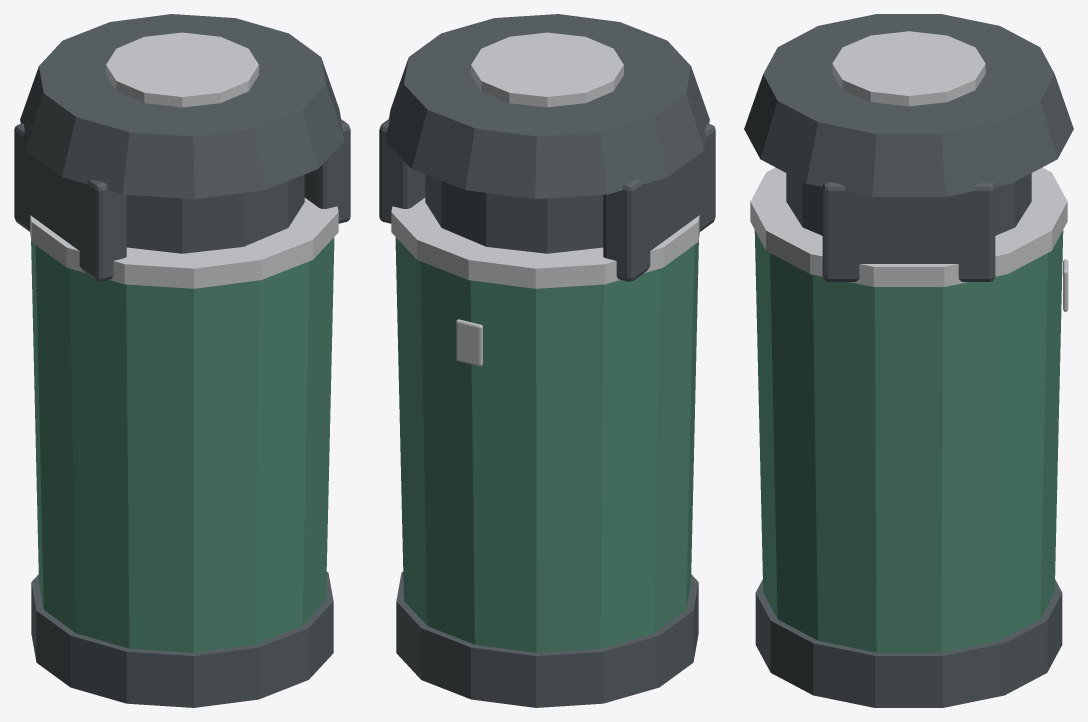
File: bin.glb
The picture shows the model from 3 angles, left to right: view 1: azimuth 30°, elevation 25°; view 2: azimuth 150°, elevation 25°; view 3: azimuth 270°, elevation 25°; orthographic projection.
Visible parts, largest first — view 1: bin; view 2: bin; view 3: bin.
Boxes of the visible parts, bbox=[...] form: bin: bbox=[14, 14, 350, 707]; bin: bbox=[379, 14, 715, 707]; bin: bbox=[744, 14, 1073, 707].
Size of the model in its own units: 0.5031 by 1 by 0.516.
